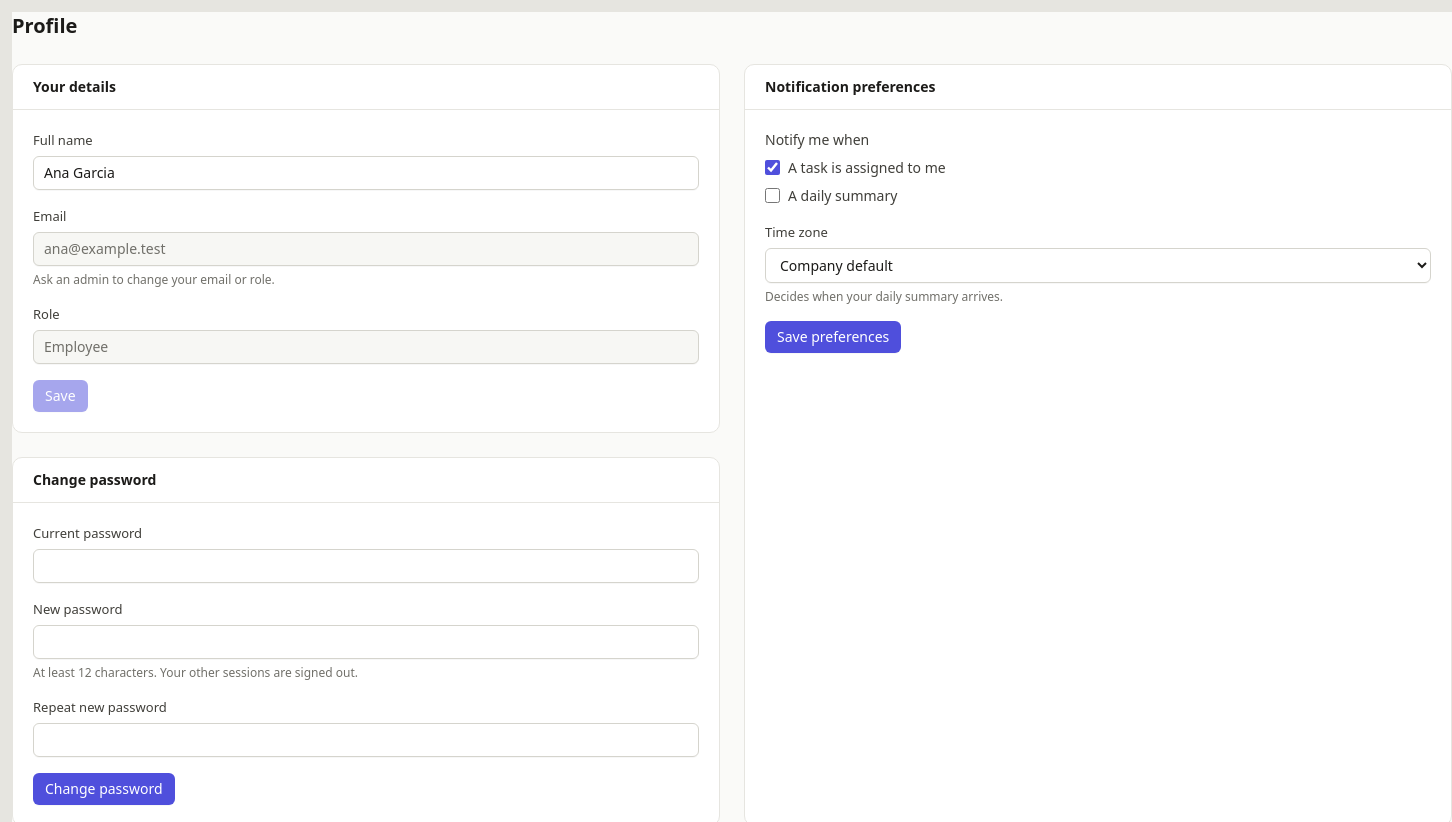
Test: details › shows email and role read-only, and saves the name
Expected: the field labelled "Email" is disabled, [33, 232, 699, 266]
Expected: the field labelled "Role" is disabled, [33, 330, 699, 364]
Replace the text in the field labelled "Full name" with "Ana G" at (366, 173), box [33, 156, 699, 190]
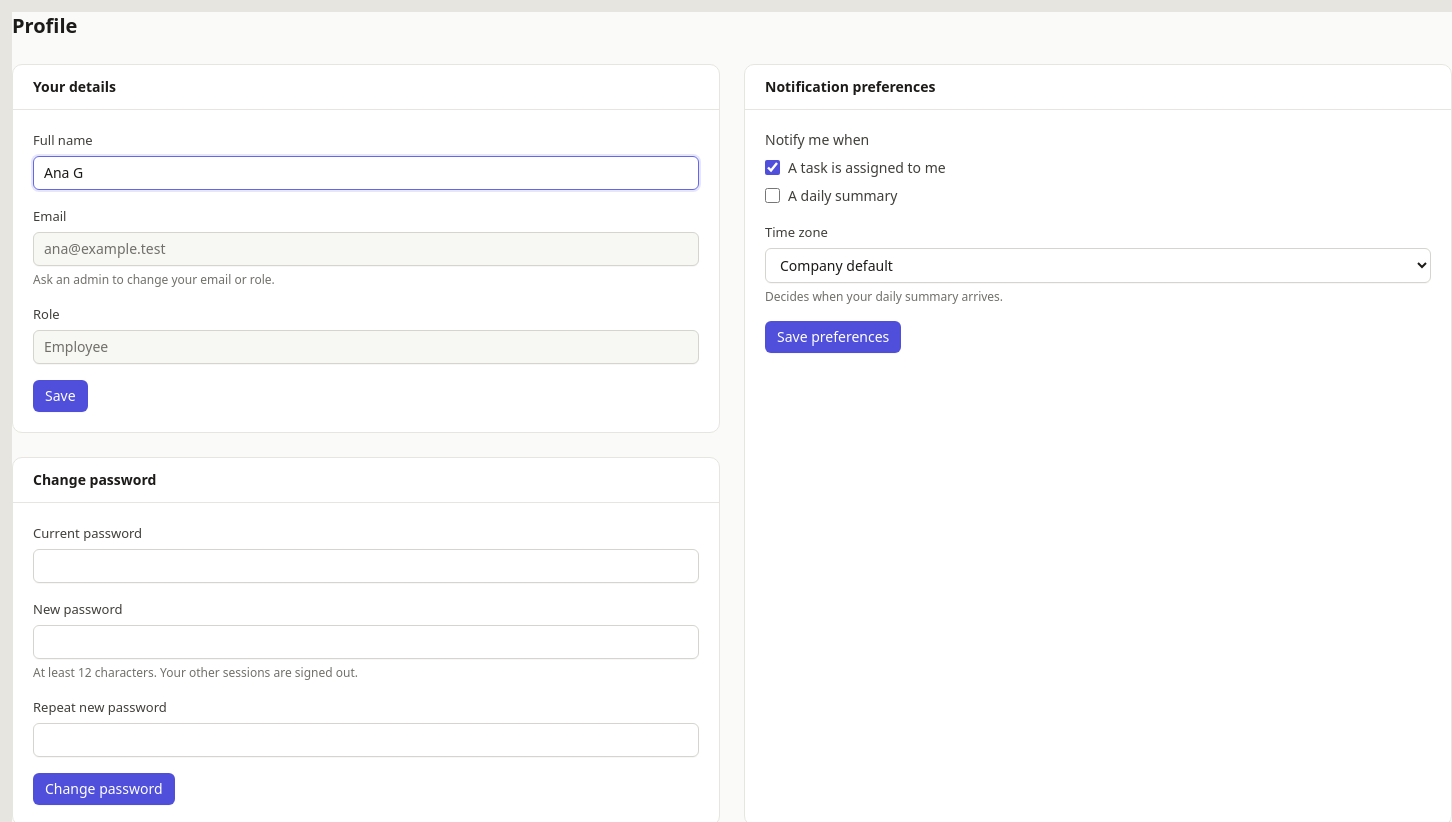
Click the button "Save" at (60, 396), box [33, 380, 88, 412]
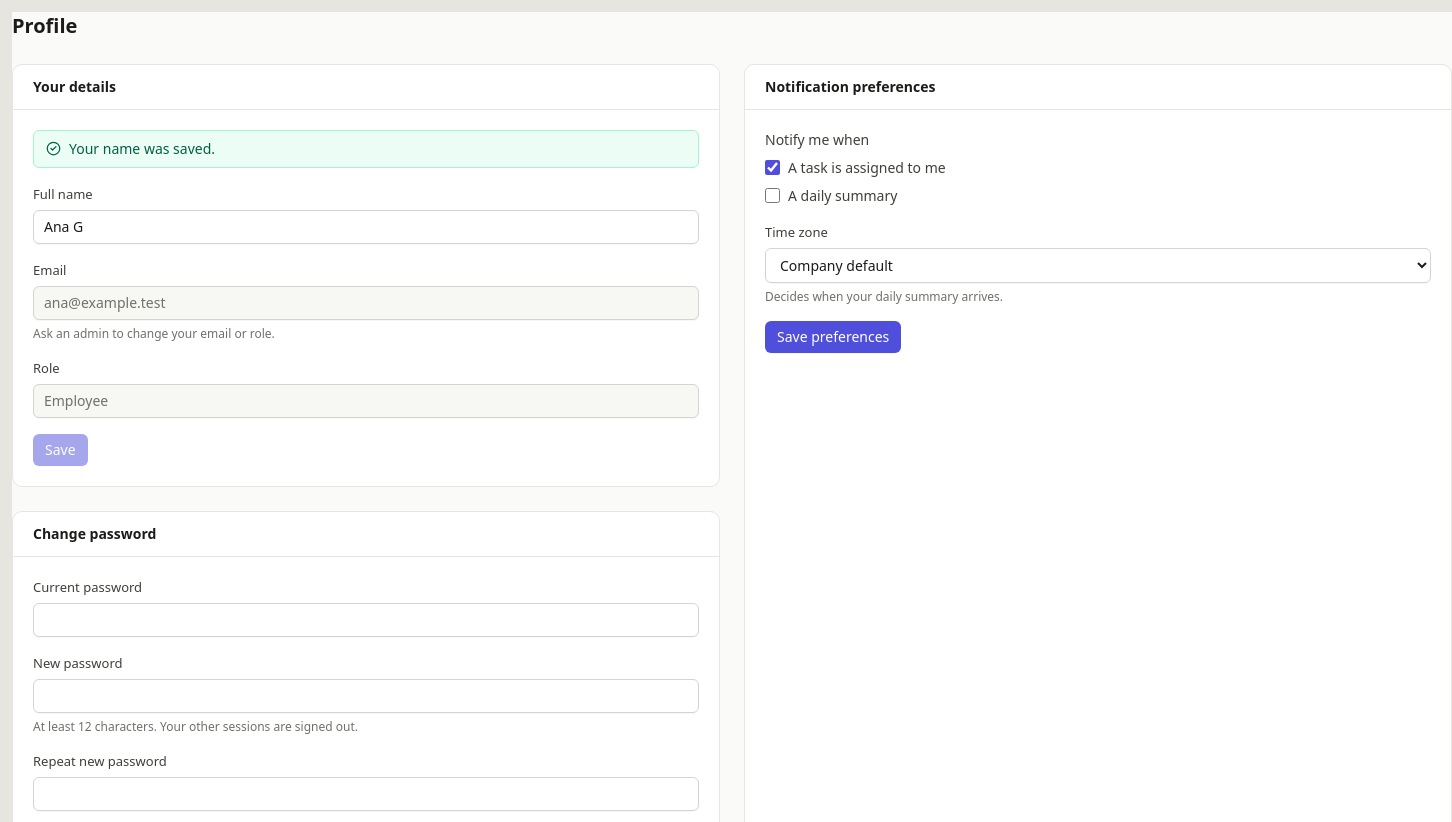
Now the message reads "Your name was saved.", box [69, 139, 215, 158]
